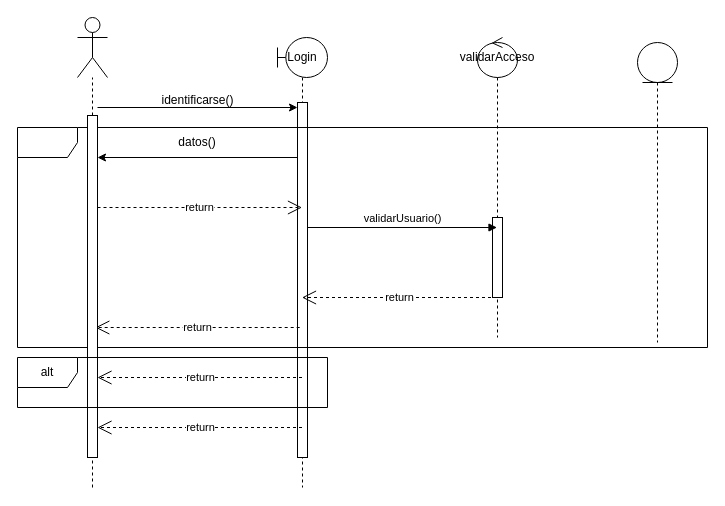
Some shapes in this 725 by 506 pixel diagram are drawn without their labels. Each missing label, with the box of its shape:
loop: (16, 126, 708, 348)
usuario: (76, 16, 108, 78)
